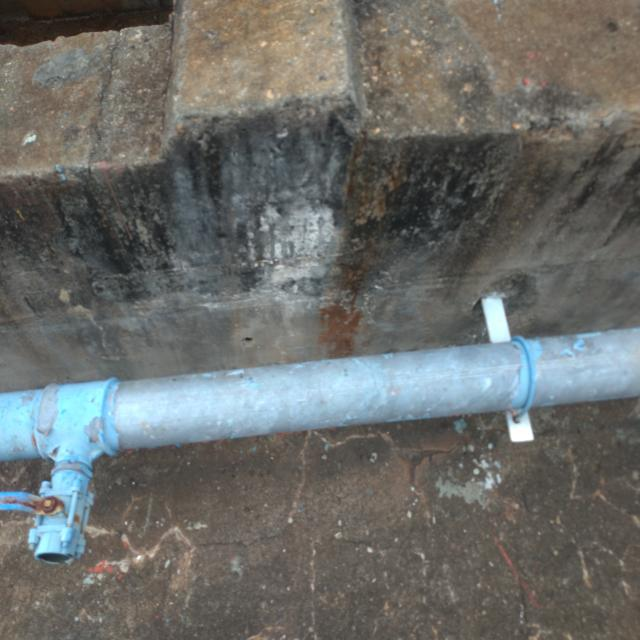gas: (4, 326, 637, 460)
